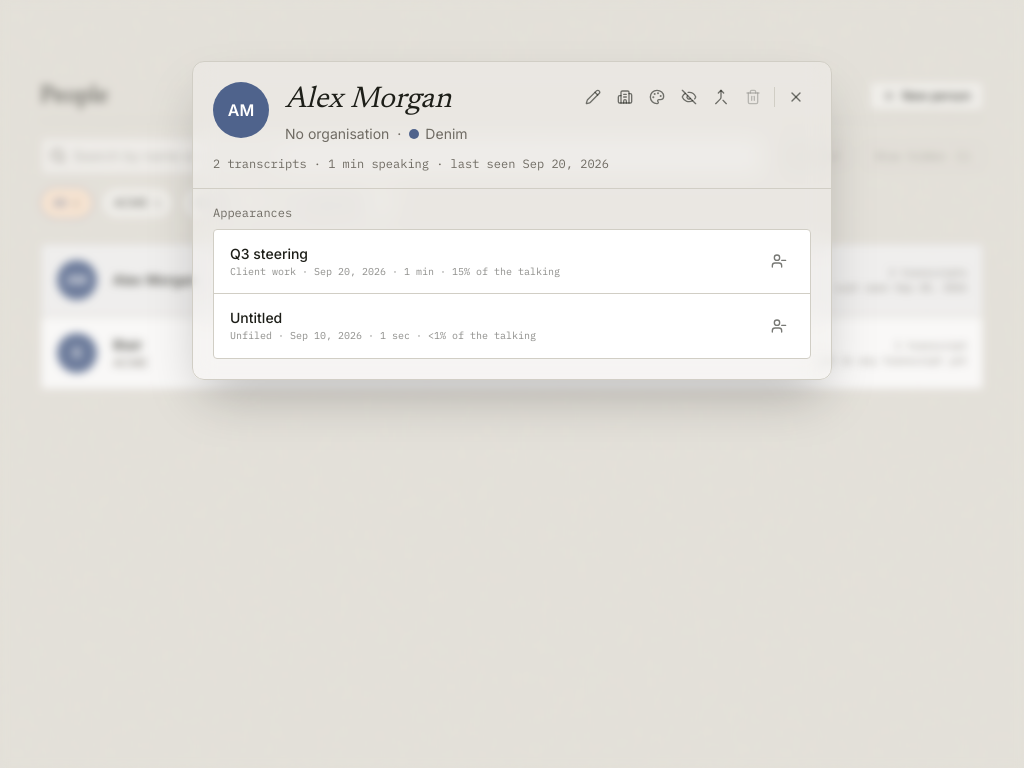
Test: editing the person › organisation: a failure stays in the popover and says so
Check: the dialog is shown, box [192,61,832,380]
Check: the heading "Appearances" is shown, box [213,205,292,220]
Click the button named "Change organisation" at (625, 97), box [610,82,640,112]
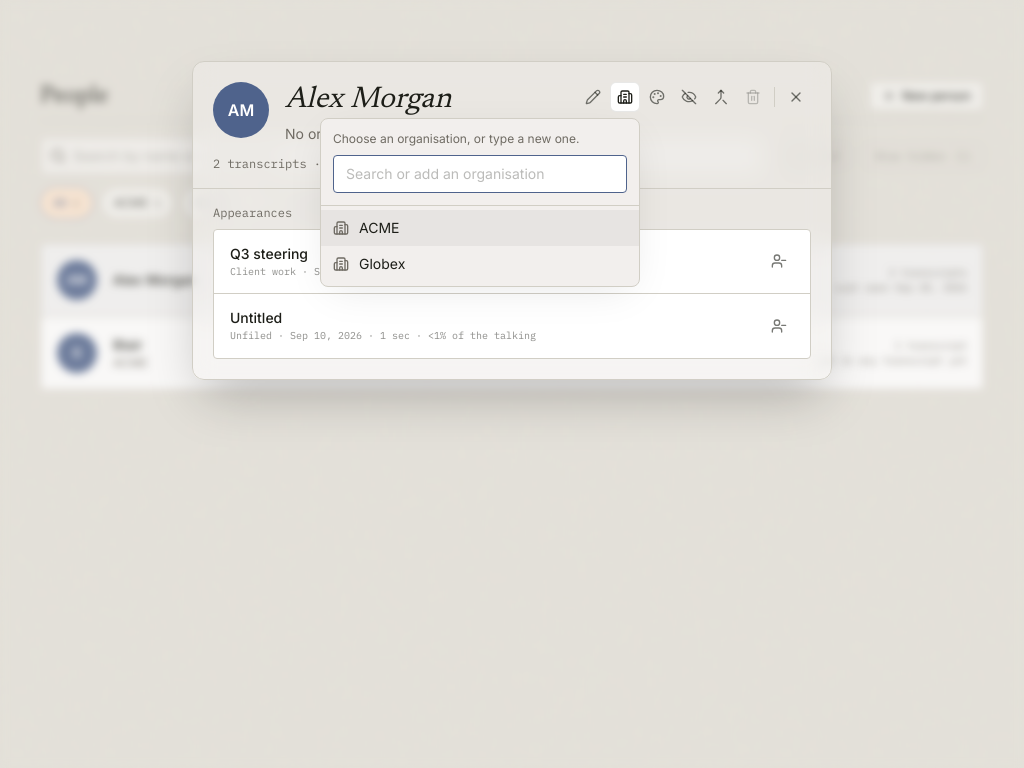
Click the option "ACME" at (379, 228), box [321,210,639,246]
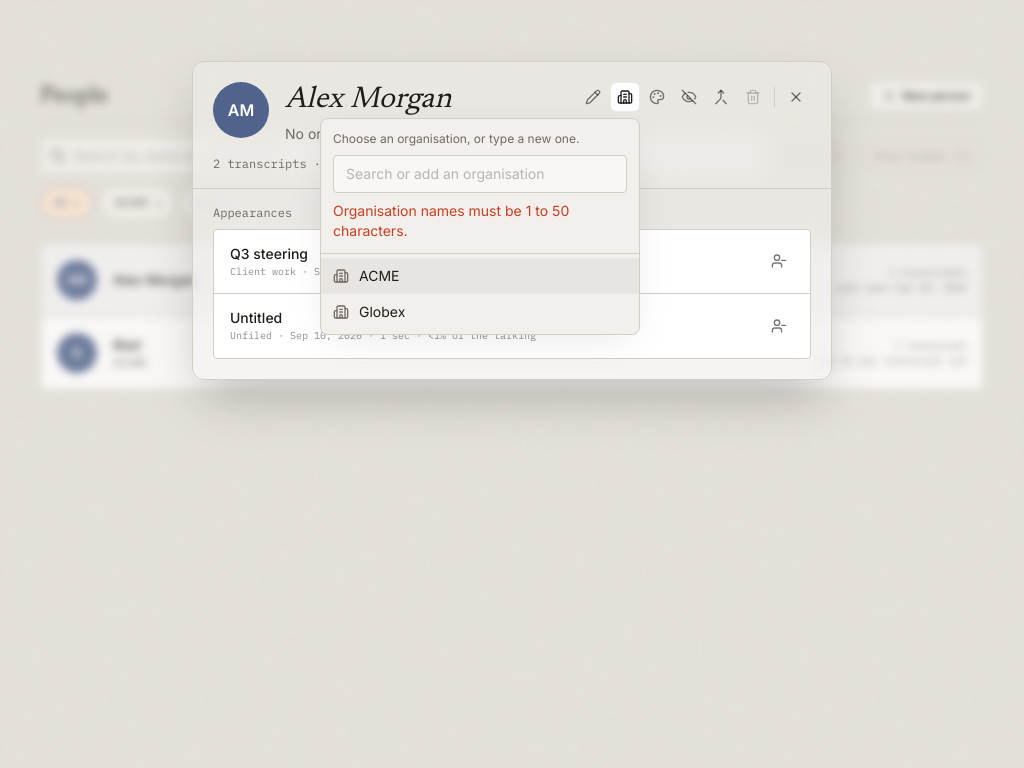
Check: the dropdown labelled "organisation" is shown, box [333,155,627,193]
Check: the message reads "Organisation names must be 1 to 50 characters.", box [333,202,569,239]
